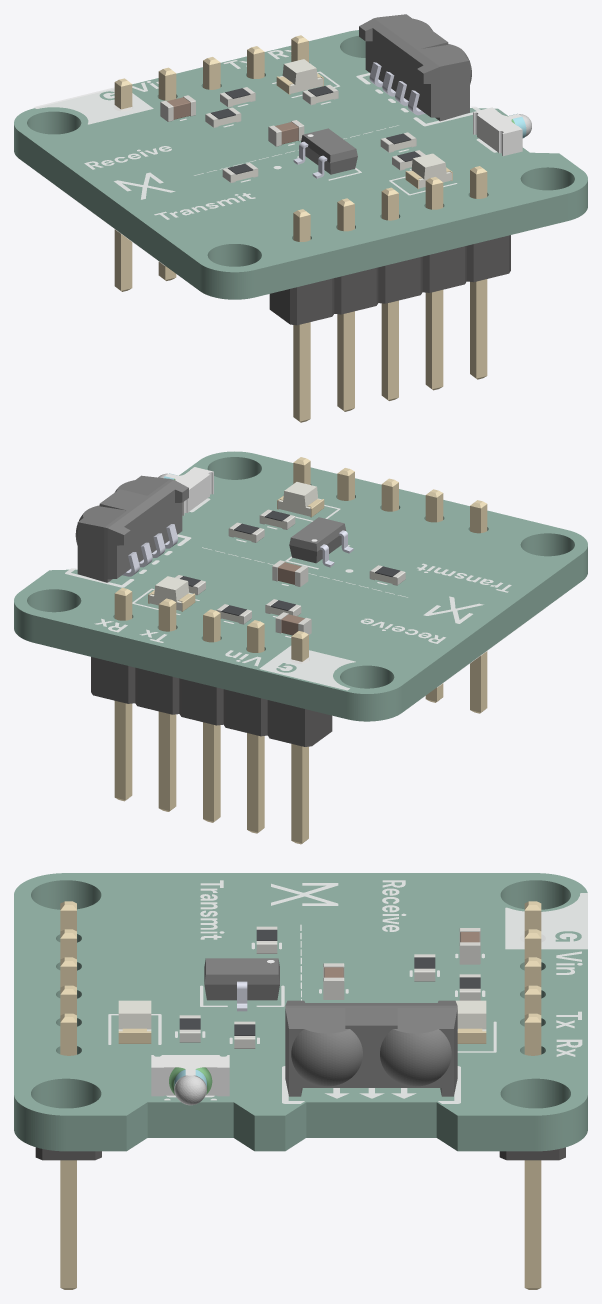
The picture shows the model from 3 angles, top to bottom: view 1: azimuth 30°, elevation 25°; view 2: azimuth 150°, elevation 25°; view 3: azimuth 270°, elevation 25°; orthographic projection. The views are drawn at different scales.
Parts seen in each view (by area): view 1: Node19, Node7, Node1, Node9, Node3, Node12, Node11, Node15, Node10, Node13, Node6; view 2: Node19, Node7, Node1, Node9, Node3, Node12, Node11, Node10, Node15, Node13, Node6; view 3: Node19, Node1, Node7, Node3, Node11, Node12, Node15, Node9, Node13, Node4, Node14.
Part boxes in pixels (x1,y1,x2,y2): Node19: [14, 30, 587, 299]; Node7: [114, 35, 487, 422]; Node1: [301, 14, 471, 174]; Node9: [269, 235, 510, 325]; Node3: [34, 50, 522, 265]; Node12: [214, 59, 452, 188]; Node11: [160, 85, 425, 182]; Node15: [473, 107, 522, 156]; Node10: [293, 62, 424, 178]; Node13: [211, 86, 420, 174]; Node6: [167, 97, 298, 144]; Node19: [14, 451, 587, 721]; Node7: [114, 457, 487, 844]; Node1: [75, 475, 346, 582]; Node9: [91, 657, 332, 746]; Node3: [65, 498, 545, 690]; Node12: [148, 482, 396, 623]; Node11: [175, 509, 405, 634]; Node10: [122, 524, 353, 576]; Node15: [165, 467, 213, 515]; Node13: [179, 510, 399, 615]; Node6: [278, 562, 304, 635]; Node19: [14, 873, 587, 1151]; Node1: [204, 958, 457, 1096]; Node7: [60, 901, 541, 1289]; Node3: [108, 880, 587, 1103]; Node11: [179, 926, 480, 1048]; Node12: [118, 1000, 486, 1031]; Node15: [151, 1055, 229, 1095]; Node9: [35, 1147, 565, 1160]; Node13: [179, 929, 480, 1035]; Node4: [174, 1075, 206, 1105]; Node14: [151, 1067, 229, 1096].
Bounding box in the file's own units: 22 × 13.14 × 22.
